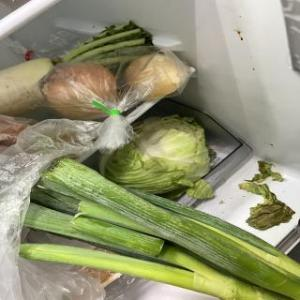cabbage: (98, 115, 214, 196)
onion: (16, 158, 300, 300), (39, 63, 118, 121), (127, 54, 187, 99)
